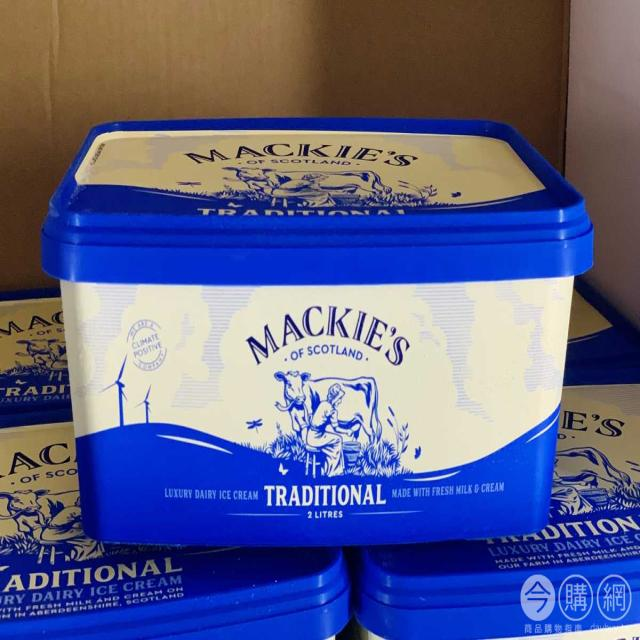plastic: (40, 109, 599, 551)
